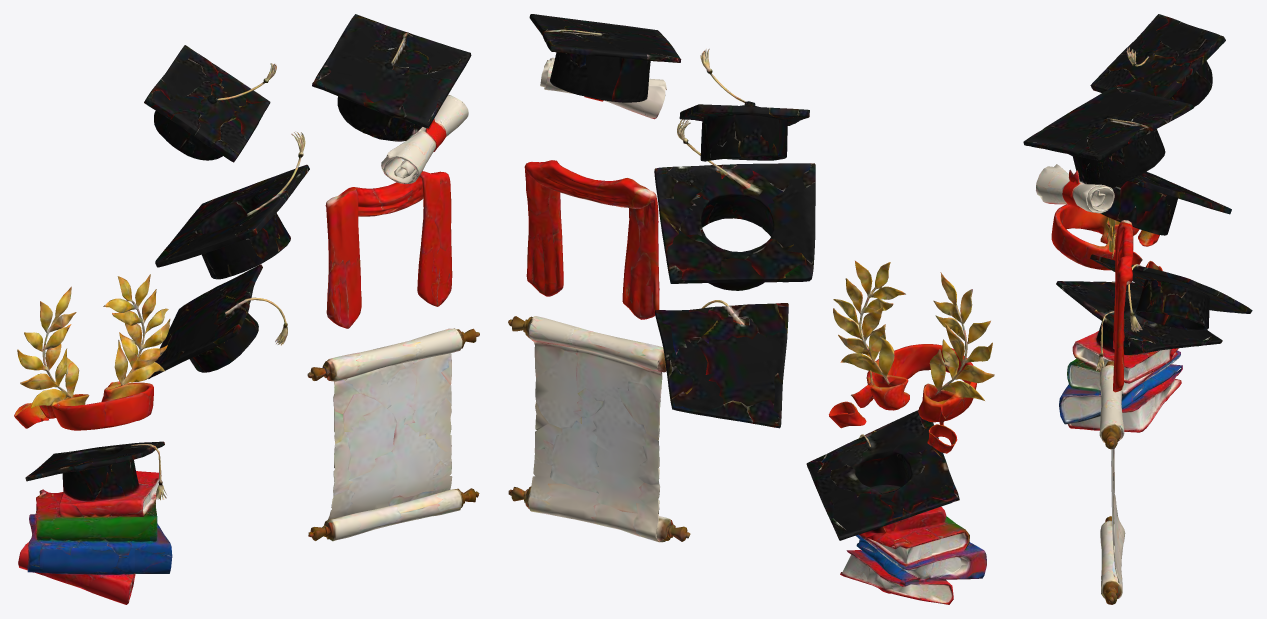
3 renders of one model, left to right at view 1: azimuth 30°, elevation 25°; view 2: azimuth 150°, elevation 25°; view 3: azimuth 270°, elevation 25°, orthographic. The views are drawn at different scales.
Parts seen in each view (by area): view 1: Mesh 10, Mesh 3, Mesh 11, Mesh 2, Mesh 12, Mesh 6, Mesh 7, Mesh 8; view 2: Mesh 10, Mesh 3, Mesh 7, Mesh 8, Mesh 2, Mesh 12, Mesh 11, Mesh 6; view 3: Mesh 11, Mesh 3, Mesh 6, Mesh 8, Mesh 7, Mesh 10, Mesh 2, Mesh 12.
Part boxes in pixels (box(x1,y1,x2,y2)): Mesh 10: box(307, 328, 479, 541); Mesh 3: box(18, 441, 172, 604); Mesh 11: box(312, 14, 471, 184); Mesh 2: box(14, 274, 170, 430); Mesh 12: box(325, 171, 452, 328); Mesh 6: box(144, 45, 276, 162); Mesh 7: box(155, 131, 309, 279); Mesh 8: box(148, 264, 287, 378); Mesh 10: box(508, 316, 690, 542); Mesh 3: box(806, 410, 986, 604); Mesh 7: box(654, 119, 815, 290); Mesh 8: box(654, 300, 788, 428); Mesh 2: box(829, 261, 994, 453); Mesh 12: box(524, 160, 659, 319); Mesh 11: box(529, 14, 681, 119); Mesh 6: box(679, 48, 809, 161); Mesh 11: box(1023, 85, 1193, 213); Mesh 3: box(1056, 281, 1222, 432); Mesh 6: box(1090, 14, 1225, 106); Mesh 8: box(1090, 254, 1252, 332); Mesh 7: box(1068, 154, 1231, 235); Mesh 10: box(1099, 361, 1125, 604); Mesh 2: box(1051, 204, 1162, 287); Mesh 12: box(1113, 220, 1133, 392).
Bounding box in the file's own units: 1.88 × 1.88 × 0.8317.
8 materials, 8 textured.
